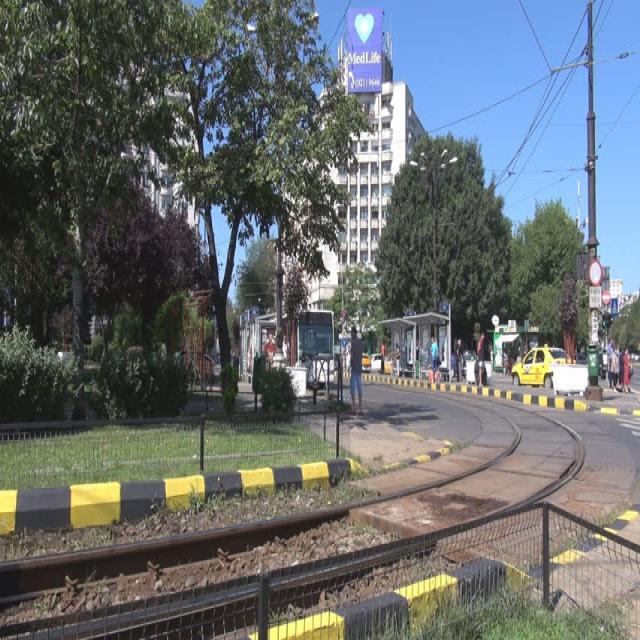body: (498, 332, 554, 373), (346, 324, 364, 417), (262, 332, 294, 360), (429, 335, 448, 381), (331, 353, 344, 404), (303, 328, 329, 352), (476, 331, 486, 386), (604, 336, 614, 391), (175, 344, 197, 369), (622, 347, 632, 393), (229, 347, 242, 381), (454, 338, 464, 382), (610, 345, 618, 391), (617, 347, 625, 392), (624, 350, 632, 390), (245, 341, 255, 372), (394, 340, 401, 379), (378, 340, 386, 360), (486, 339, 494, 357)
